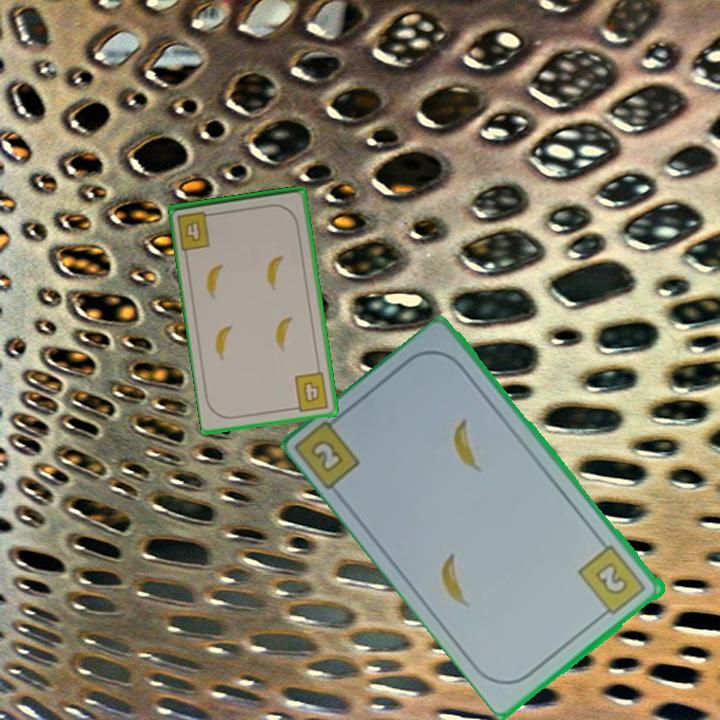2b: (294, 408, 364, 494), (575, 541, 650, 621)
4b: (174, 208, 218, 253), (289, 369, 331, 414)
